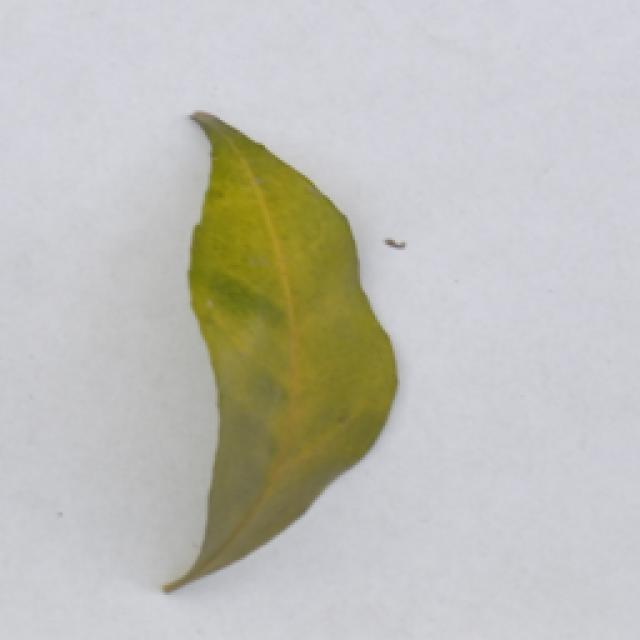greening: (150, 103, 407, 596)
